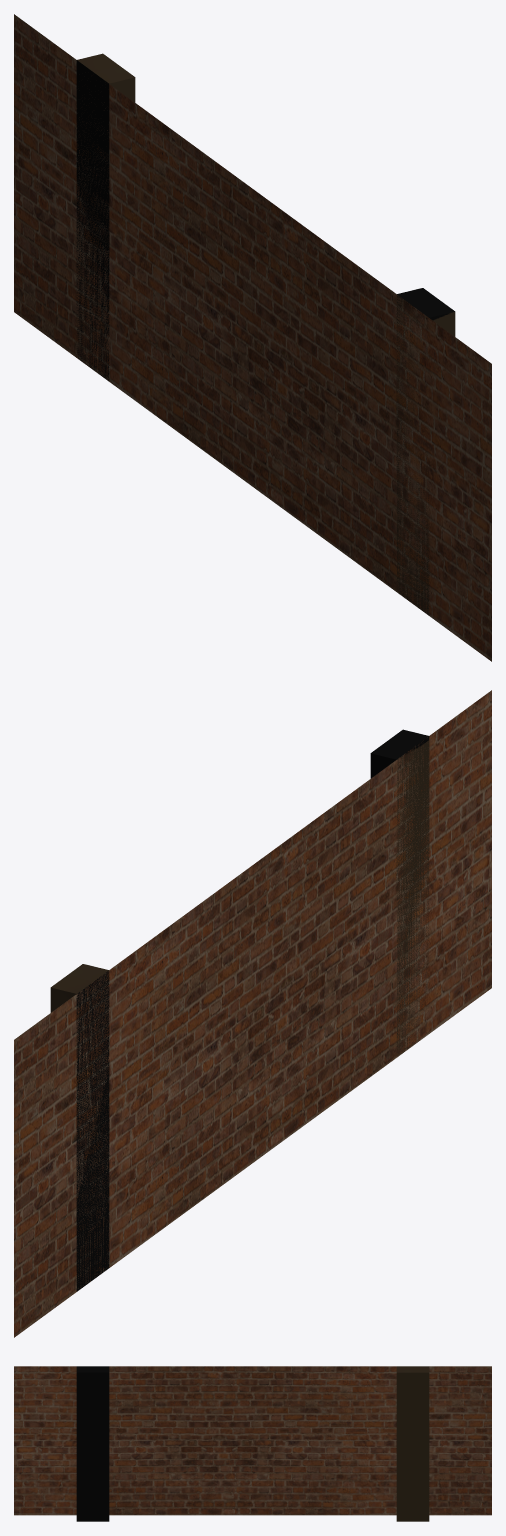
Rendered from ExposedBrickWall.fbx.
3 renders of one model, top to bottom at view 1: azimuth 30°, elevation 25°; view 2: azimuth 150°, elevation 25°; view 3: azimuth 270°, elevation 25°, orthographic. The views are drawn at different scales.
Parts seen in each view (by area): view 1: Plane.001; view 2: Plane.001; view 3: Plane.001.
Boxes of the visible parts, left/top/right/bottom form: Plane.001: left=14, top=14, right=491, bottom=661; Plane.001: left=14, top=690, right=491, bottom=1337; Plane.001: left=14, top=1366, right=491, bottom=1521.
Bounding box in the file's own units: 31.68 × 344 × 1000.
